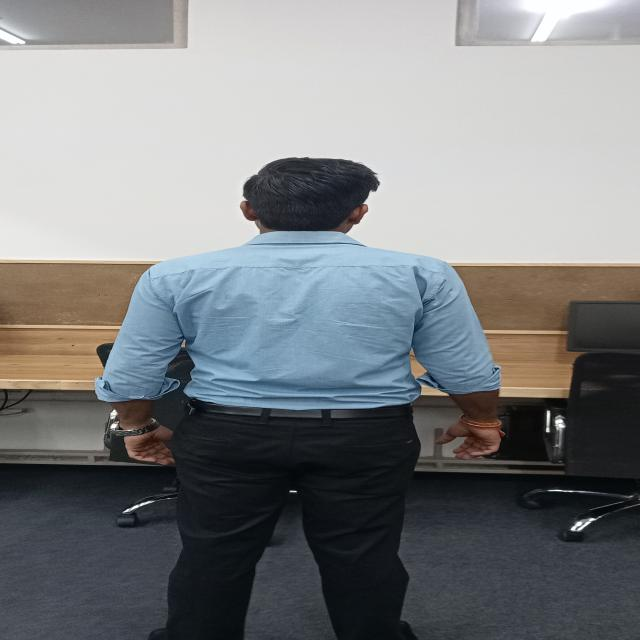unsafe: (126, 157, 503, 640)
